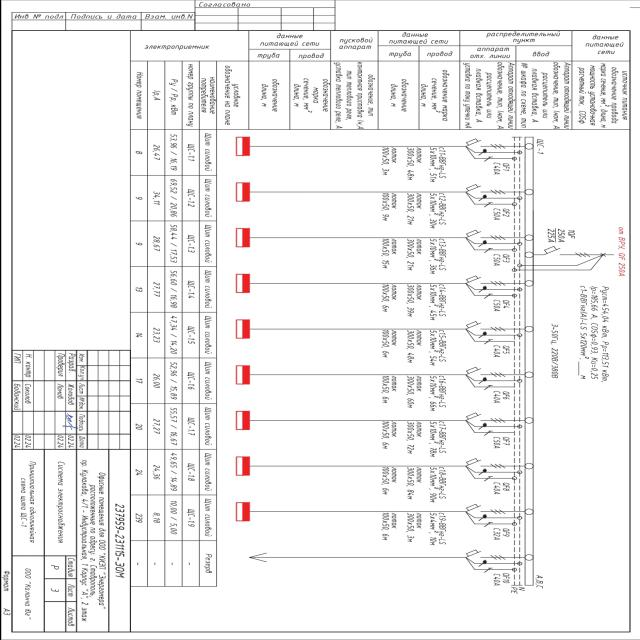-: (544, 228, 564, 242), (534, 138, 546, 156), (489, 208, 501, 224), (489, 344, 501, 358), (489, 253, 501, 267), (489, 526, 501, 540), (489, 390, 501, 404), (490, 160, 500, 176), (490, 298, 500, 312), (490, 482, 500, 496), (490, 436, 500, 450), (490, 573, 500, 587)
QF: (540, 246, 590, 258), (464, 183, 506, 196), (464, 138, 506, 150), (464, 229, 506, 241), (464, 274, 506, 286), (463, 320, 505, 332), (464, 366, 506, 378), (464, 412, 506, 424), (464, 458, 506, 470), (465, 504, 507, 516), (464, 549, 506, 561)
